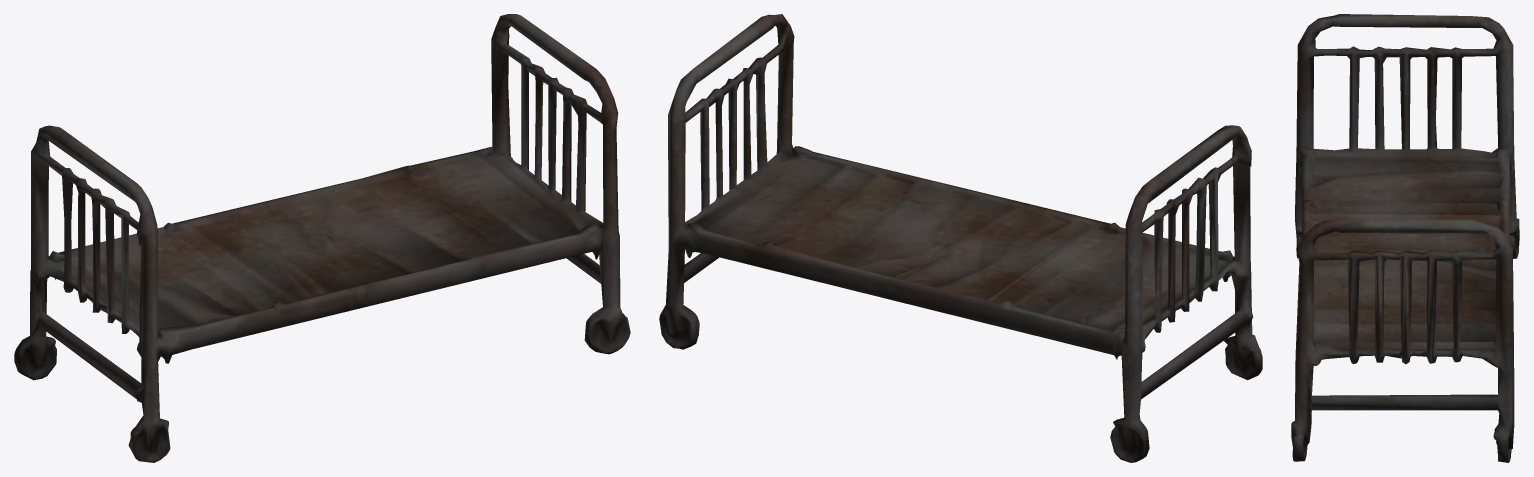
Rendered from simple-iron-asylum-bed-v002.glb.
3 views of the same model, side by side, from view 1: azimuth 30°, elevation 25°; view 2: azimuth 150°, elevation 25°; view 3: azimuth 270°, elevation 25° (orthographic). The views are drawn at different scales.
Parts seen in each view (by area): view 1: simple-iron-asylum-bed; view 2: simple-iron-asylum-bed; view 3: simple-iron-asylum-bed.
Boxes of the visible parts, bbox=[...] form: simple-iron-asylum-bed: bbox=[14, 14, 630, 462]; simple-iron-asylum-bed: bbox=[659, 14, 1262, 462]; simple-iron-asylum-bed: bbox=[1291, 14, 1519, 462].
Size of the model in its own units: 1.98 by 1.02 by 0.8676.
Materials: 1 (1 with a texture image).
